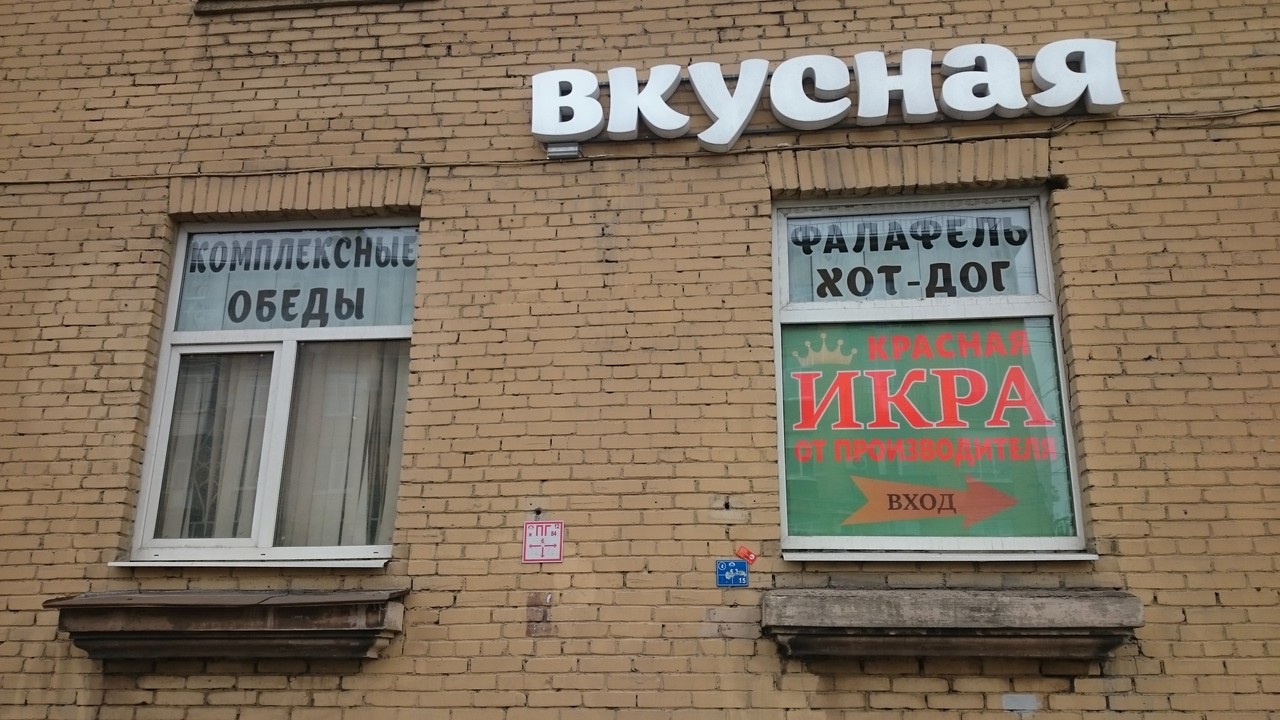signboard: (533, 37, 1128, 156)
win_ad: (782, 322, 1066, 535), (177, 231, 416, 327), (787, 215, 1035, 297)
window: (773, 188, 1082, 553), (128, 213, 418, 559)
